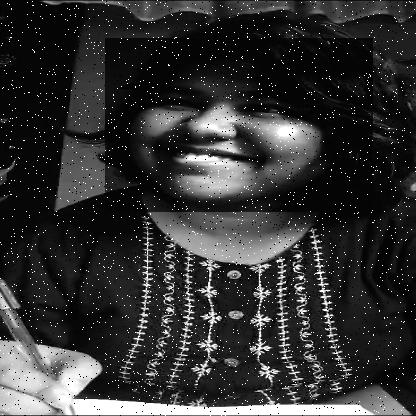Distracted: (105, 38, 373, 212)
